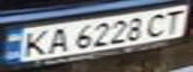2: (90, 19, 115, 48), (109, 17, 133, 46)
6: (72, 21, 96, 52)
8: (124, 15, 151, 42)
A: (42, 25, 72, 55)
C: (142, 10, 172, 38)
K: (15, 28, 54, 58)
T: (160, 7, 190, 34)
